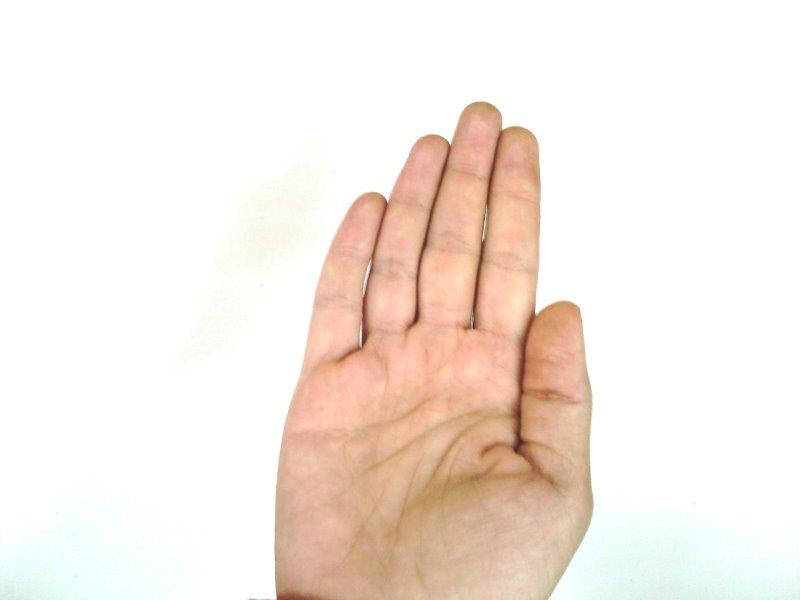hand: (276, 101, 592, 599)
